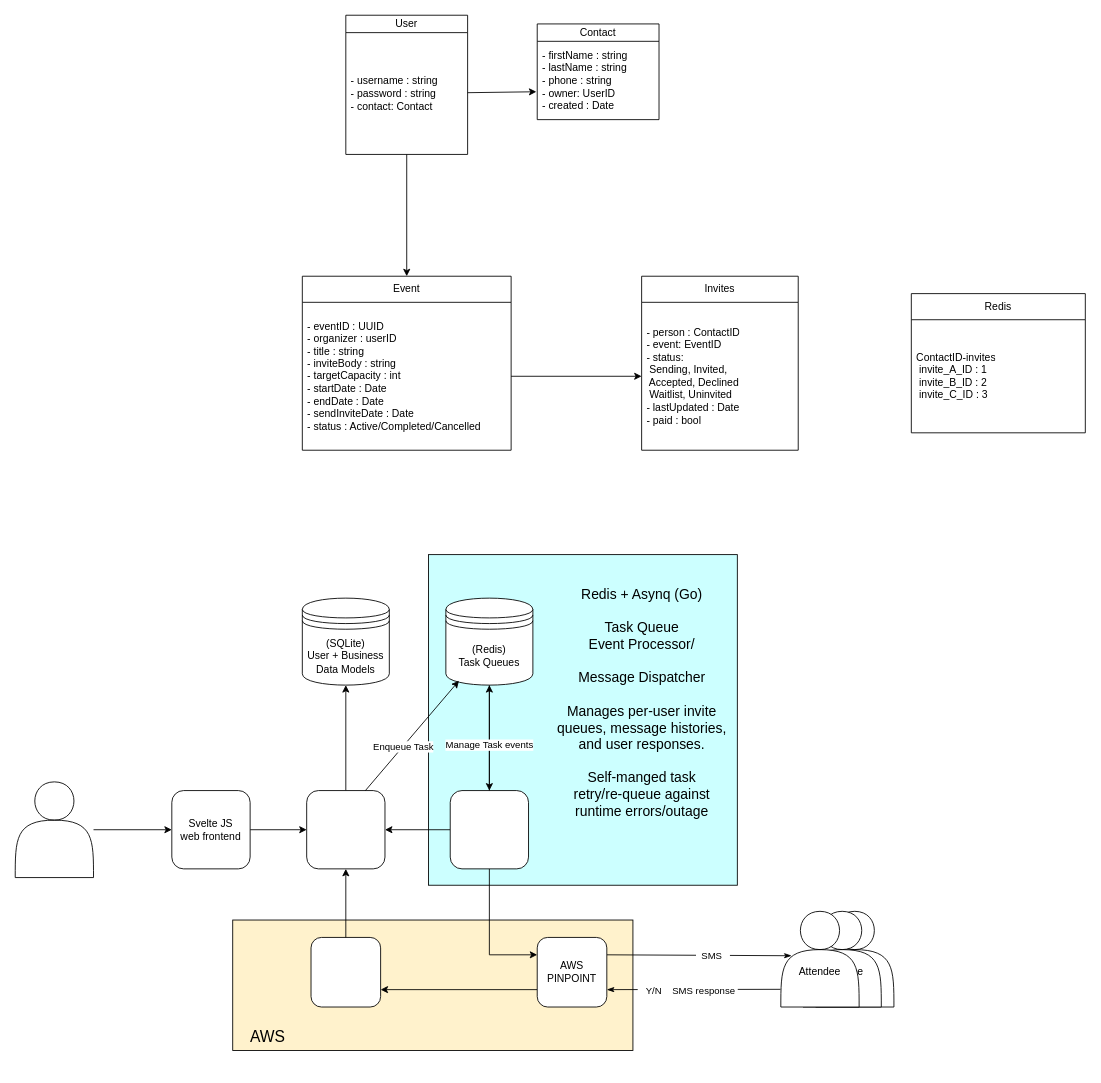
This 1101x1083 diagram has some shape labels left out. Here are the shapes that lost their labels. From the top down, the centre of each, then its label:
At (x=54, y=829): "organizer".
At (x=345, y=829): "Gin (Go) web server".
At (x=489, y=829): "Asynq (Go) Kafka-style task processor".
At (x=345, y=972): "AWS SNS".
